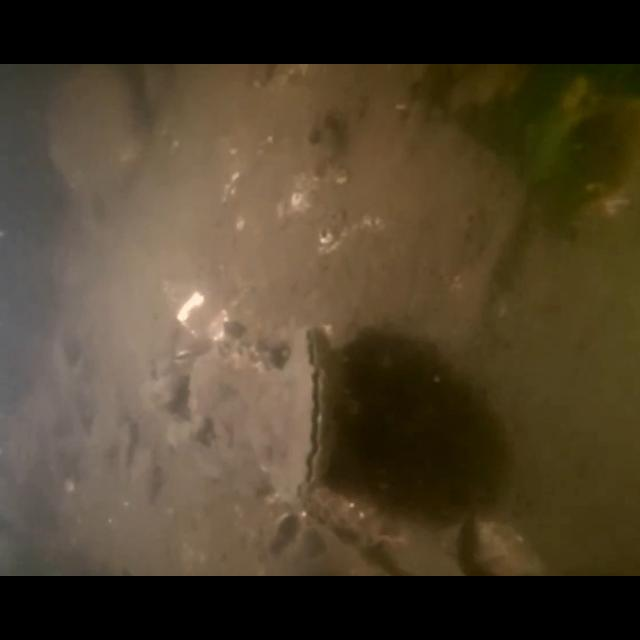Oyster-Open: (252, 326, 344, 510), (187, 338, 285, 486)
